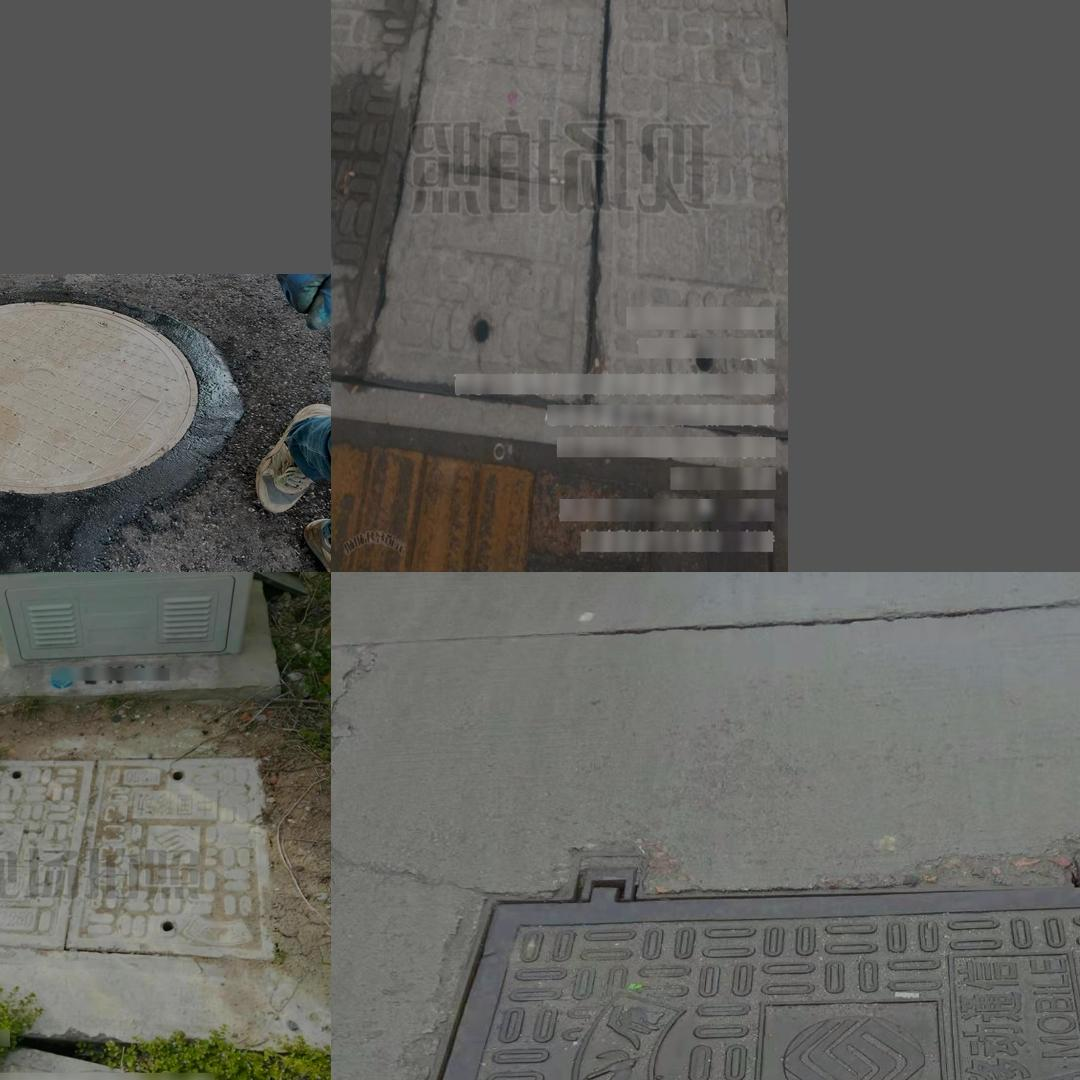good: (333, 0, 785, 417), (367, 853, 1080, 1080), (0, 284, 248, 540), (0, 756, 275, 966)
